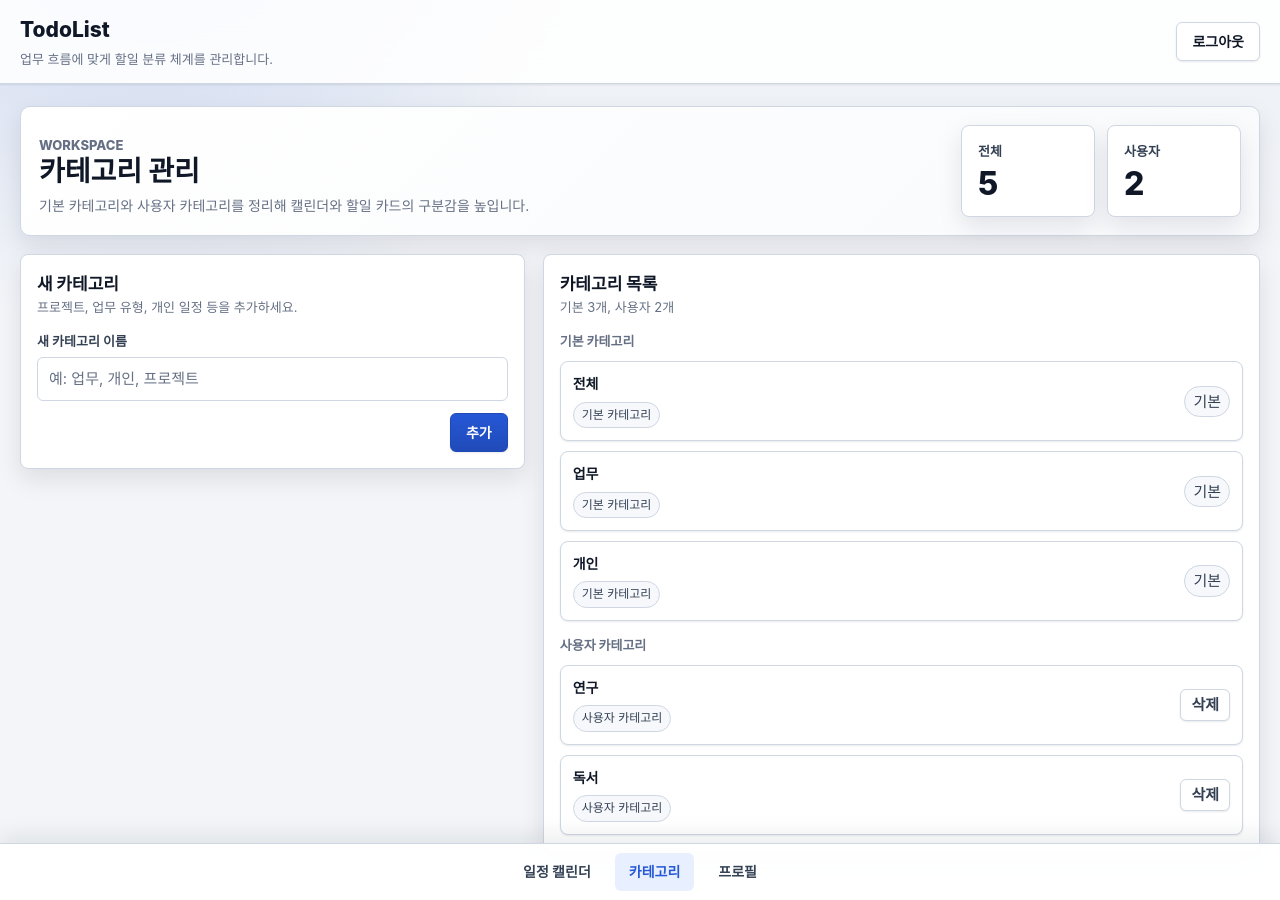
Test case: CategoryPage › 삭제 확인 모달에서 취소 클릭 시 삭제되지 않는다
The width and height of the screenshot is (1280, 900).
Step 1. Click the button with aria-label "삭제: 연구" → (1205, 705), box [1180,689,1230,721]
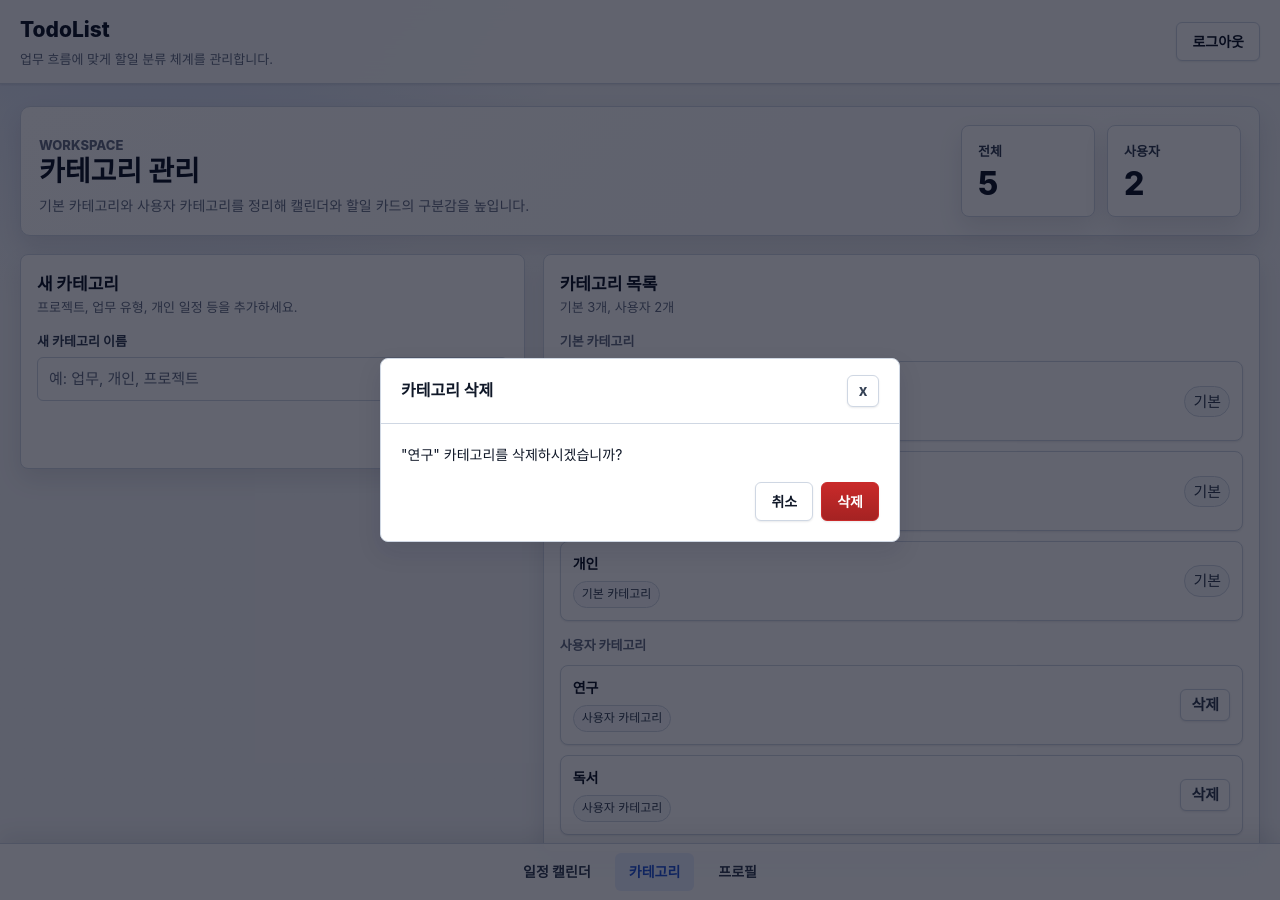
Step 2. Click the button "취소" → (784, 501), box [756,482,813,521]
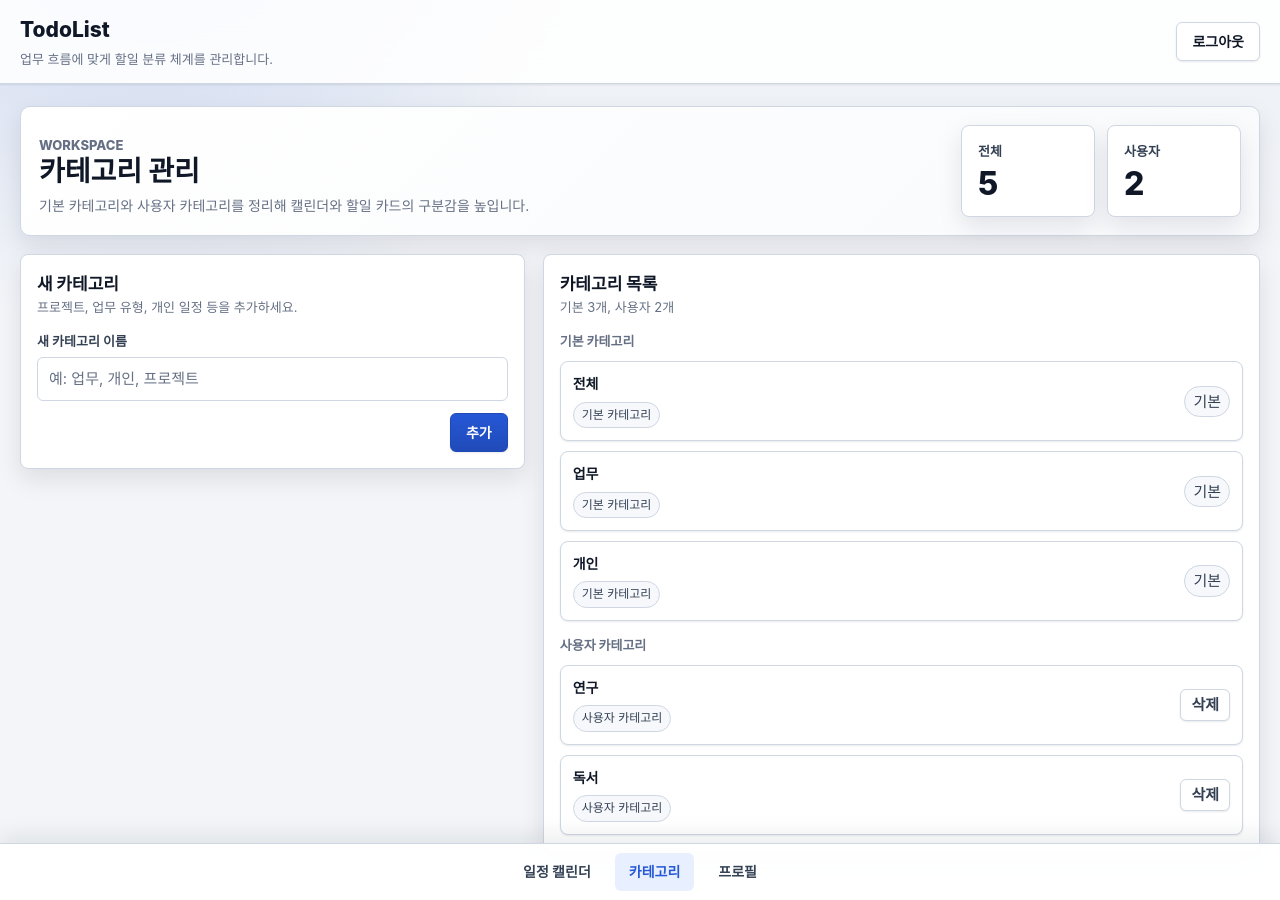
Now the dialog is gone
